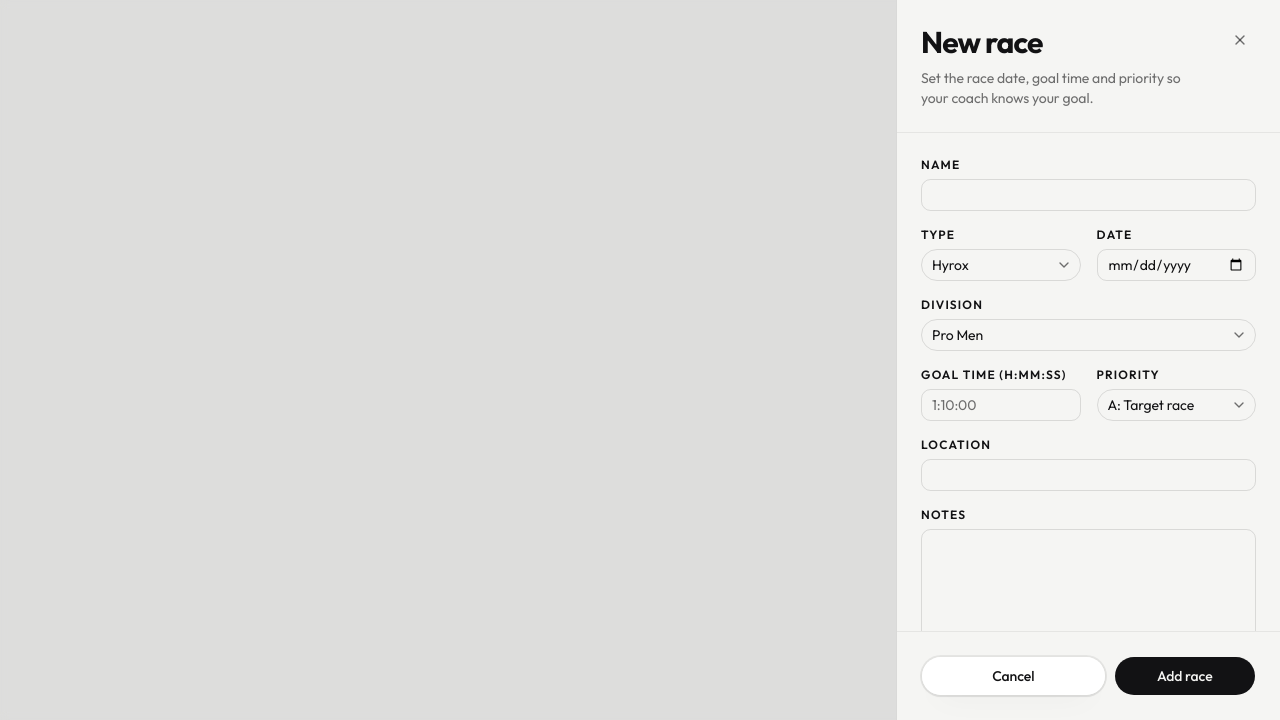
Scenario: RaceFormDrawer › shows division only while the selected type is Hyrox
Click the dropdown with test id "race-form-type". click: (1001, 265)
box: [921,249,1080,281]
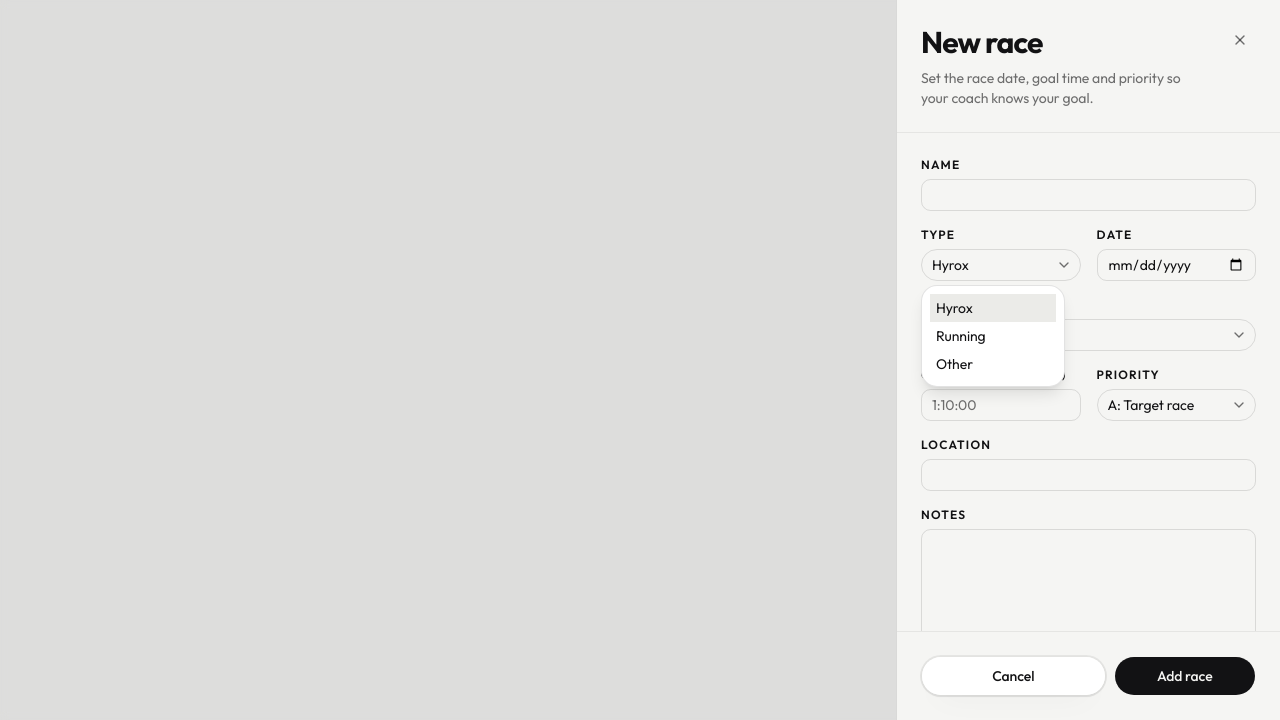
Click the option with test id "race-form-type-option-running". click: (961, 336)
box: [936,327,986,345]
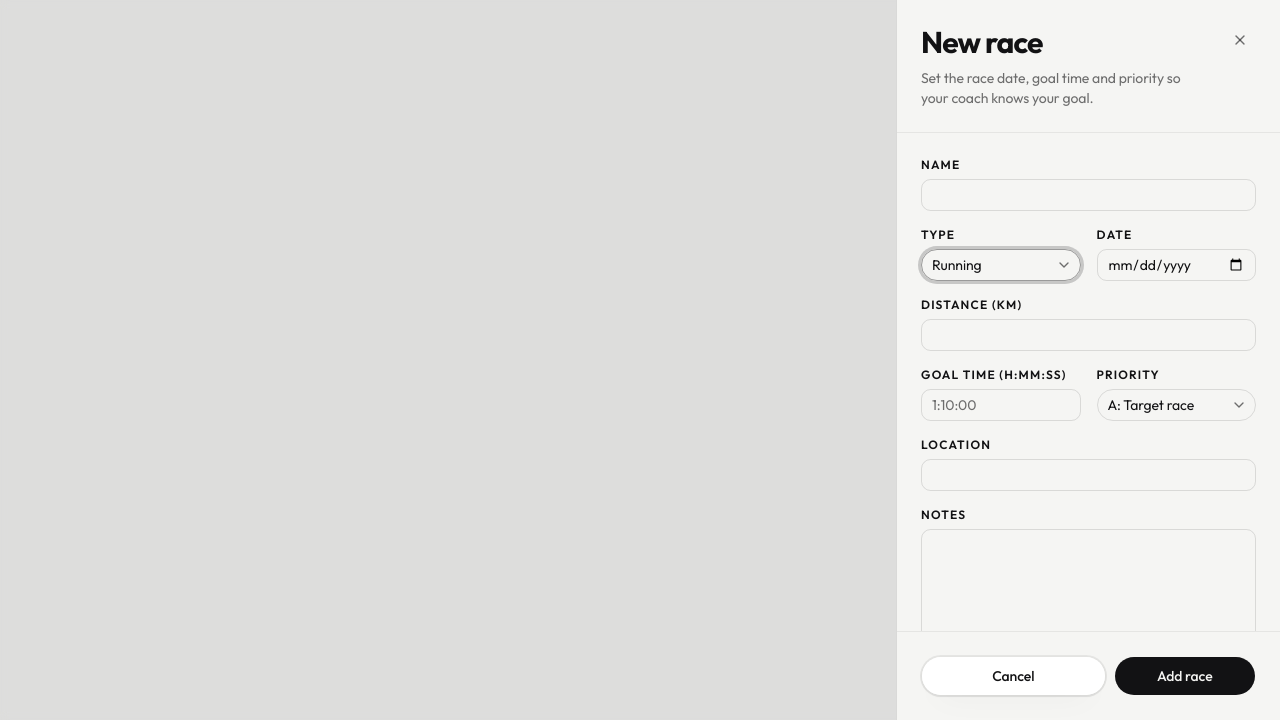
Expected: the dropdown with test id "race-form-type" shows "Running"
Expected: the dropdown with test id "race-form-division" is gone
Click the dropdown with test id "race-form-type". click: (1001, 265)
box: [921,249,1080,281]
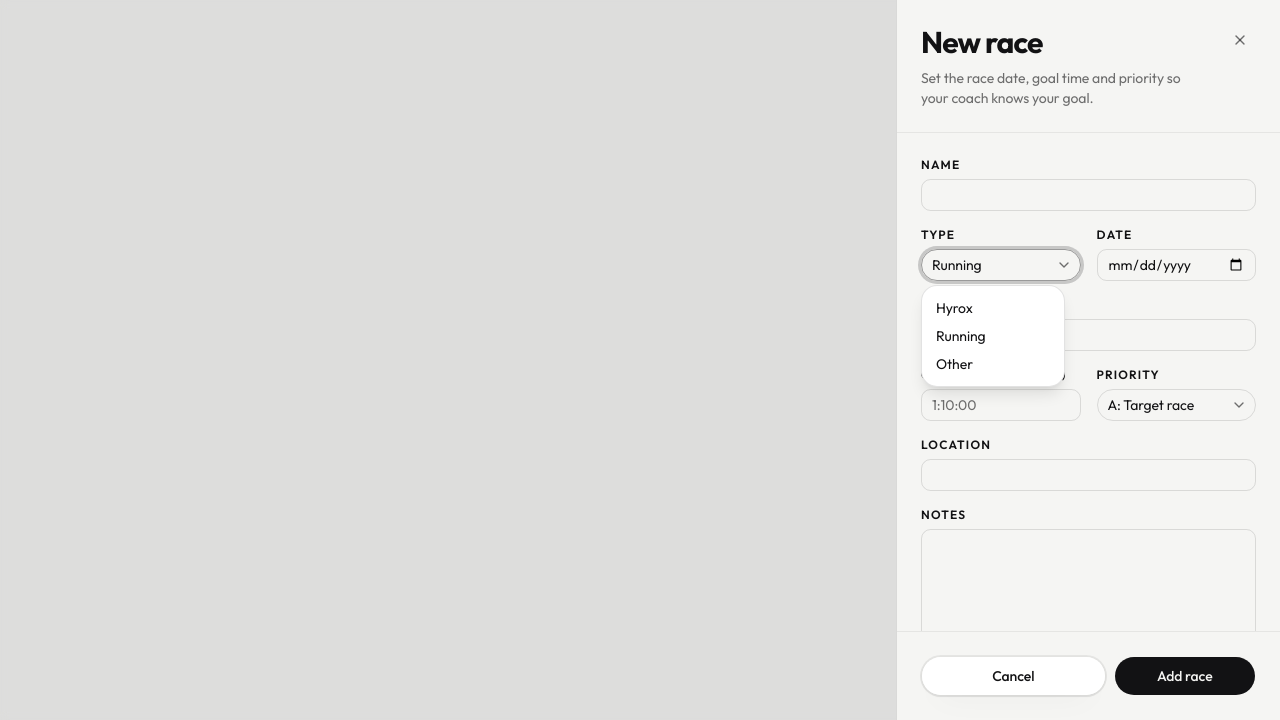
Click the option with test id "race-form-type-option-hyrox". click: (954, 308)
box: [936,299,973,317]
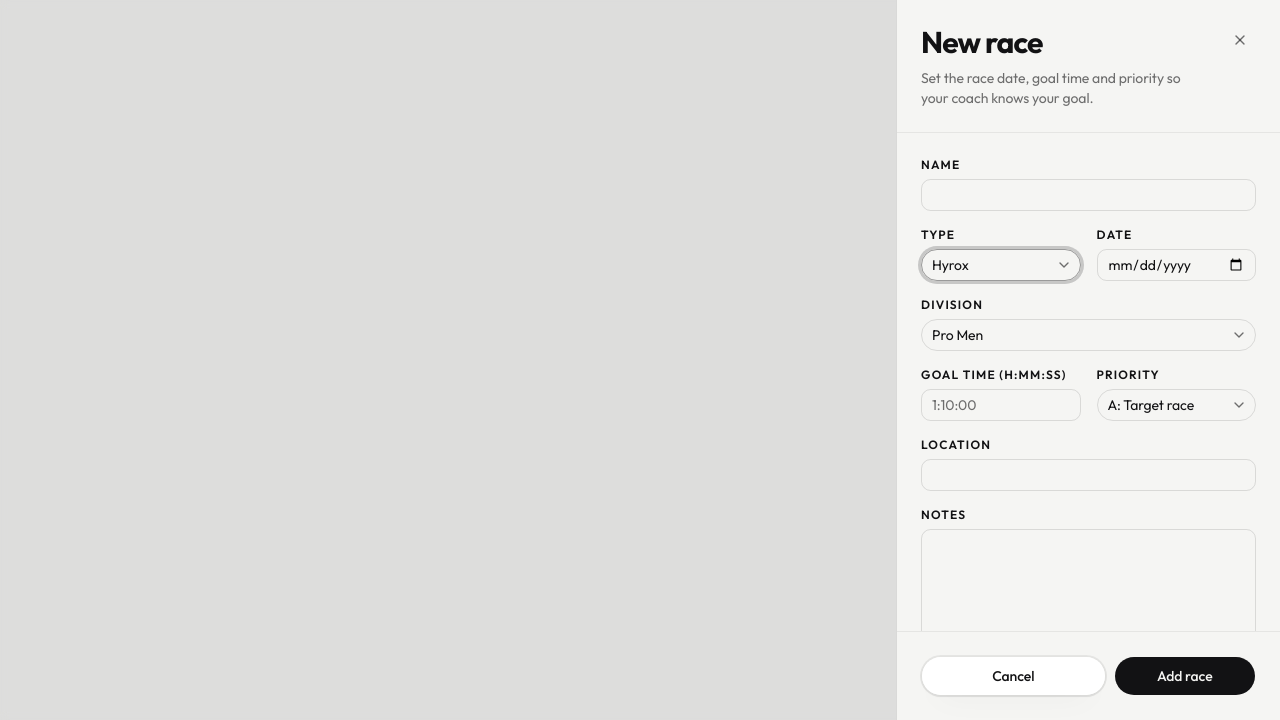
Expected: the dropdown with test id "race-form-type" shows "Hyrox"
Expected: the dropdown with test id "race-form-division" is shown, [921,319,1256,351]
Click the dropdown with test id "race-form-type". click: (1001, 265)
box: [921,249,1080,281]
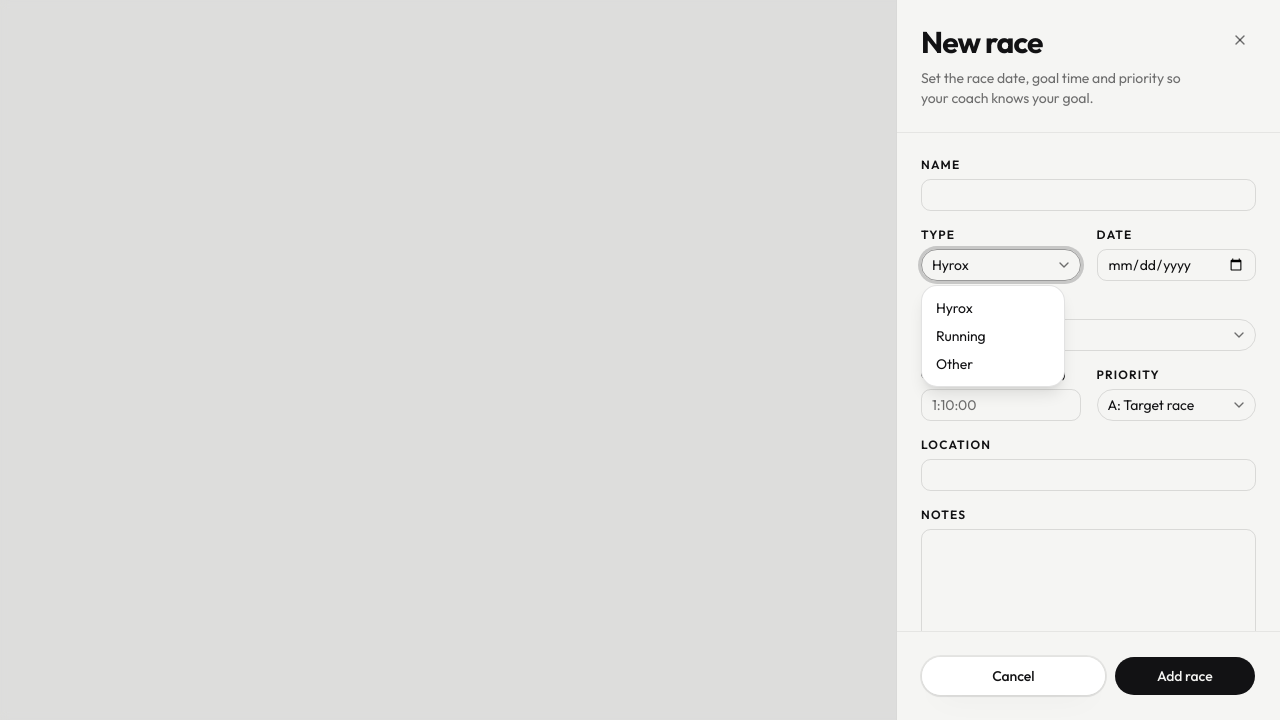
Click the option with test id "race-form-type-option-other". click: (954, 364)
box: [936,355,973,373]
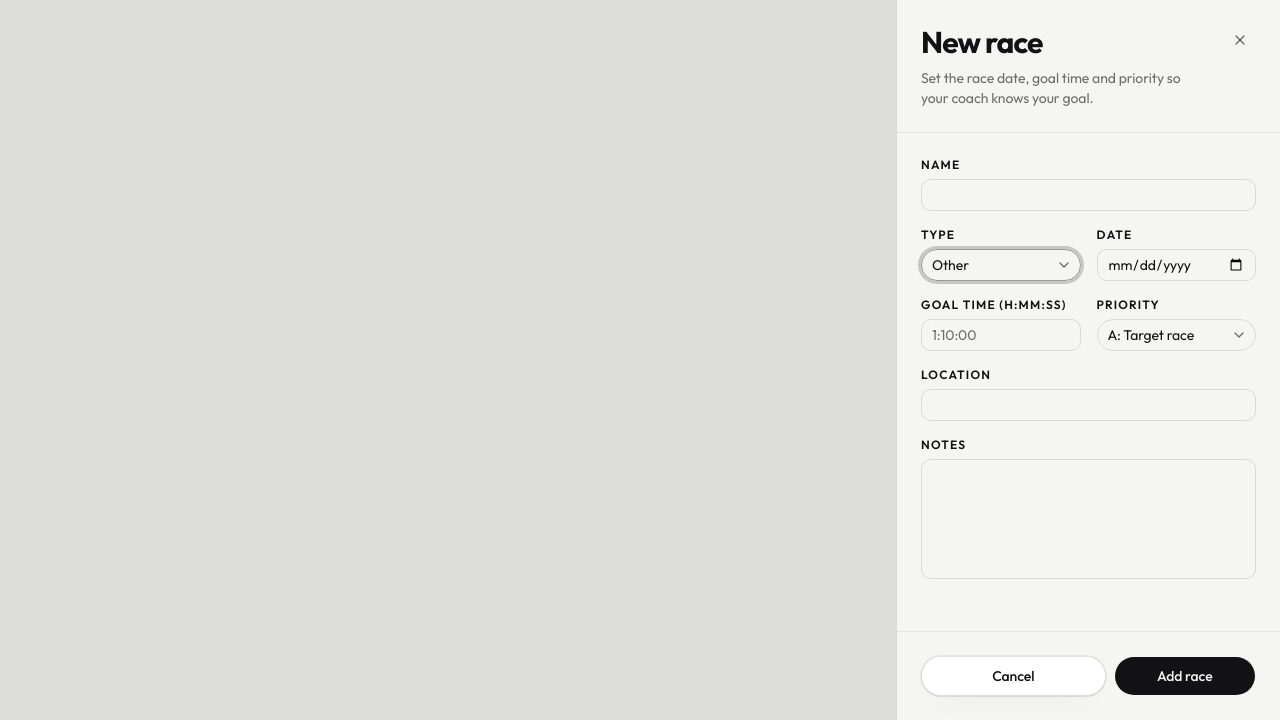
Expected: the dropdown with test id "race-form-type" shows "Other", [921,249,1080,281]
Expected: the dropdown with test id "race-form-division" is gone
